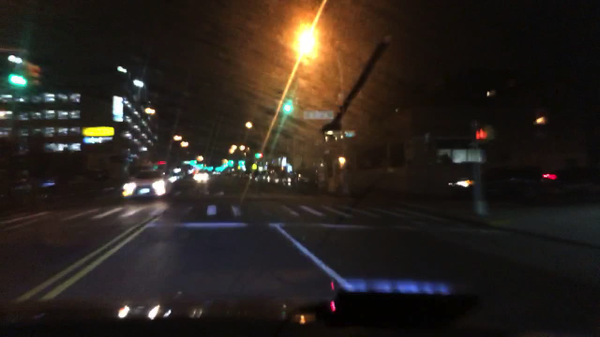car: (447, 160, 592, 204), (120, 169, 175, 199), (287, 170, 317, 195), (266, 172, 281, 187), (166, 170, 180, 185), (274, 172, 288, 185), (194, 172, 211, 182), (255, 172, 266, 184), (174, 168, 184, 180), (228, 171, 237, 180), (249, 171, 257, 181), (240, 172, 249, 179), (185, 167, 192, 175)
traffic light: (473, 125, 492, 142), (11, 56, 21, 87), (29, 62, 38, 87), (337, 157, 346, 167), (285, 98, 289, 112), (255, 149, 259, 159), (199, 160, 203, 170), (190, 159, 195, 166), (229, 159, 233, 166), (240, 159, 243, 166), (217, 165, 220, 172), (207, 165, 210, 172)
traffic sign: (303, 111, 334, 119), (345, 129, 354, 138)
